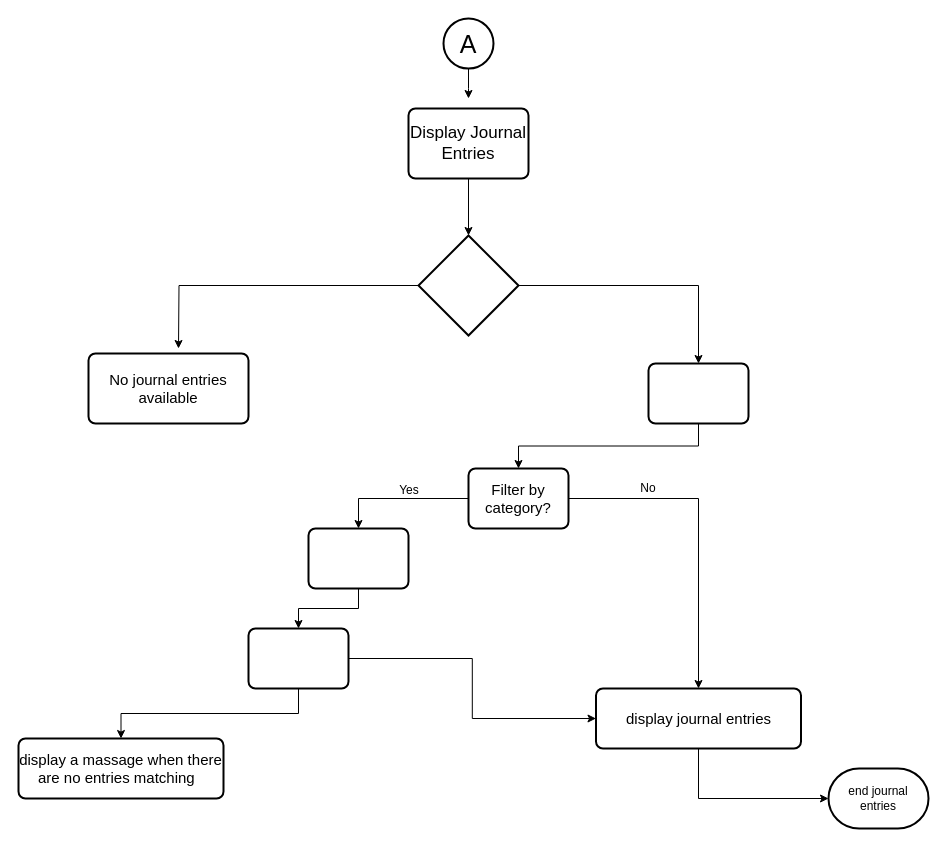
Some shapes in this 946 by 846 pixel diagram are drawn without their labels. Each missing label, with the box of its shape:
are there any journal entries: (417, 234, 519, 336)
Filter entries by category: (247, 627, 349, 689)
Get category form user input: (307, 527, 409, 589)
Prepare table data: (647, 362, 749, 424)
